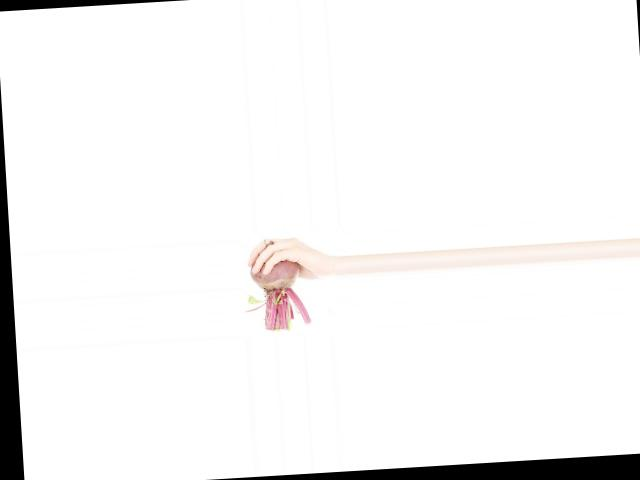beet: (241, 237, 311, 332)
